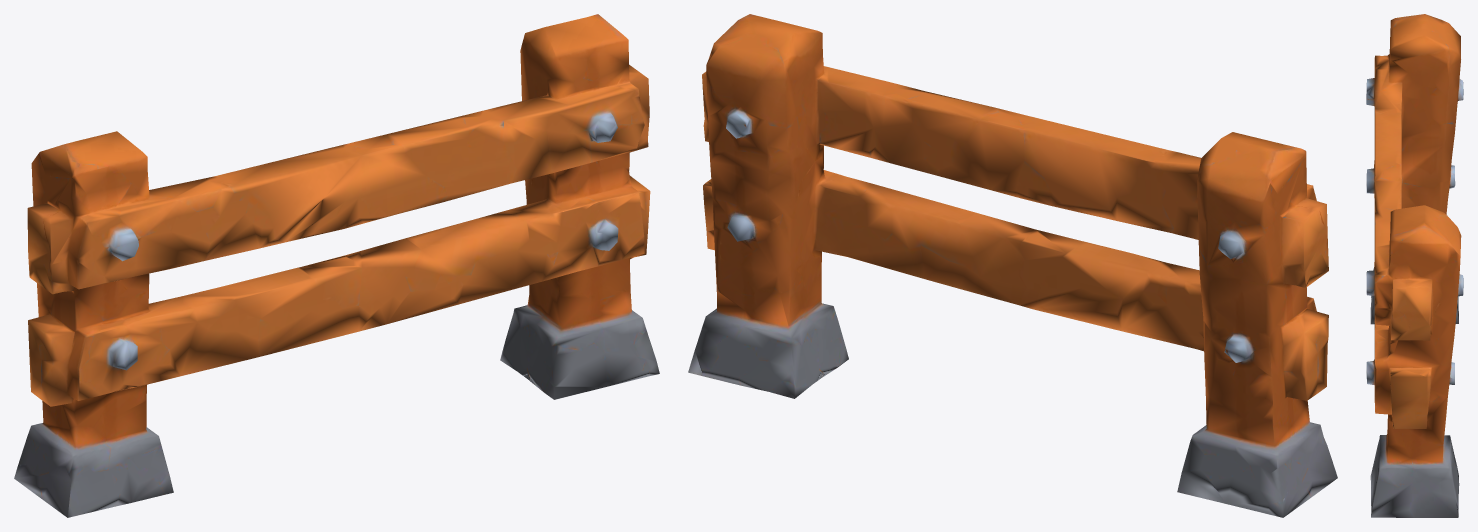
The model's file is cerca-madeira.glb.
3 views of the same model, side by side, from view 1: azimuth 30°, elevation 25°; view 2: azimuth 150°, elevation 25°; view 3: azimuth 270°, elevation 25° (orthographic). The views are drawn at different scales.
Bounding box in the file's own units: 1.9 × 1.04 × 0.3268.
1 material, 1 textured.
